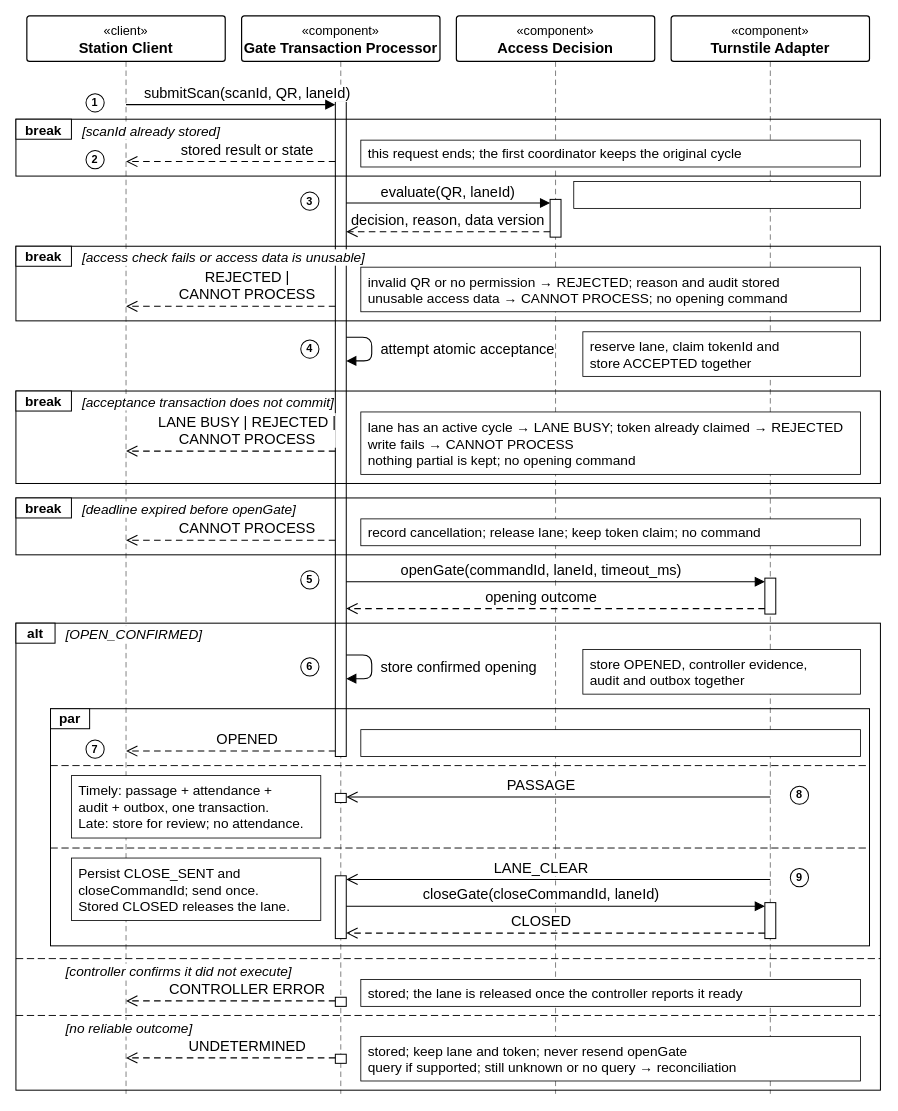
Image size: 898x1111. Some labels were removed from this diagram. The shapes that lost their labels are listed below. From the top down, each one's centre as x and y in pixels, then its label:
At (716,194): "verify QR; read Eligibility Snapshot".
At (610,742): "Station Client shows the result; the 2-second target ends here".
